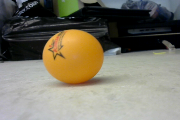PingPongBall: (43, 29, 103, 83)
